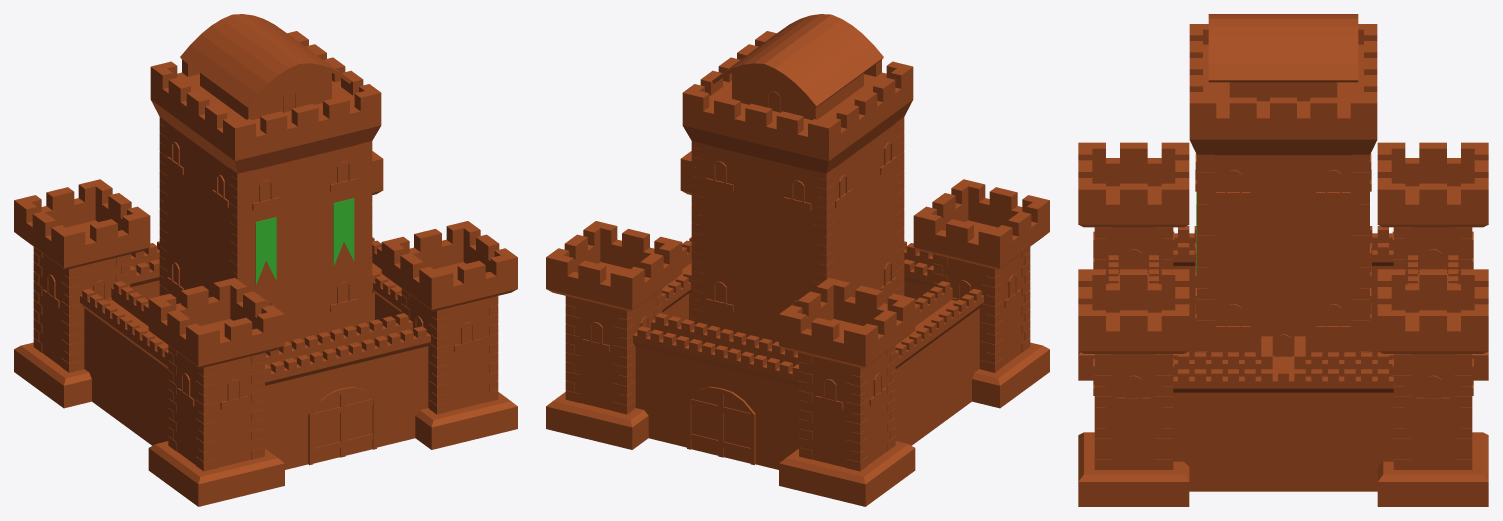
Rendered from LowPoly_StoneCastle.fbx.
The picture shows the model from 3 angles, left to right: view 1: azimuth 30°, elevation 25°; view 2: azimuth 150°, elevation 25°; view 3: azimuth 270°, elevation 25°; orthographic projection. The views are drawn at different scales.
Visible parts, largest first — view 1: Castle, Flag; view 2: Castle; view 3: Castle.
Part boxes in pixels (bbox=[...]): Castle: bbox=[14, 14, 517, 506]; Flag: bbox=[255, 198, 354, 285]; Castle: bbox=[546, 14, 1049, 506]; Castle: bbox=[1078, 14, 1488, 506].
Bounding box in the file's own units: 740 × 799 × 740.
